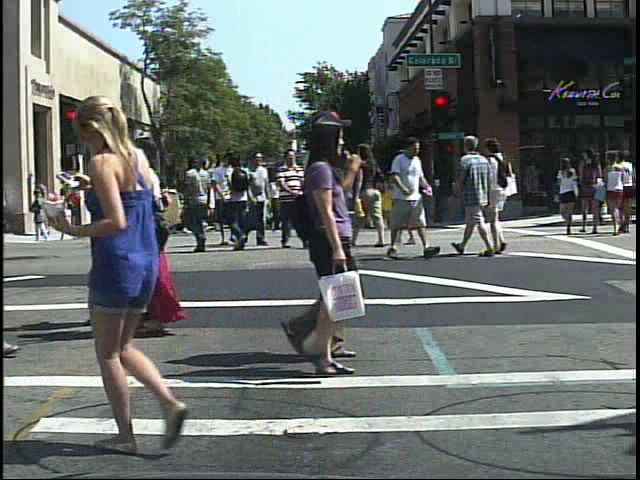person: (69, 83, 227, 468), (259, 118, 372, 380), (120, 134, 202, 343), (317, 106, 380, 367), (93, 130, 137, 332), (386, 136, 437, 263), (453, 128, 495, 262), (276, 145, 322, 254), (220, 151, 261, 260), (182, 146, 221, 258), (387, 144, 427, 250), (352, 138, 388, 247), (238, 148, 275, 254), (488, 134, 519, 256), (209, 151, 246, 253), (555, 152, 584, 236), (183, 171, 203, 239), (66, 182, 87, 232)
